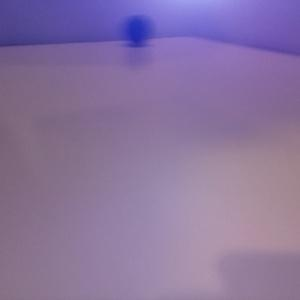dead_ball: (120, 16, 153, 46)
